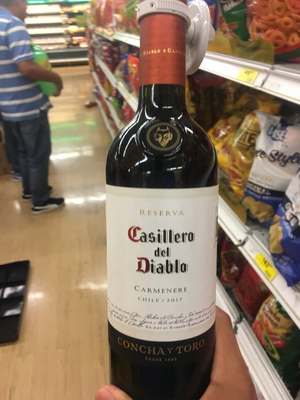casillero del diablo carmenere: (99, 19, 247, 399)
